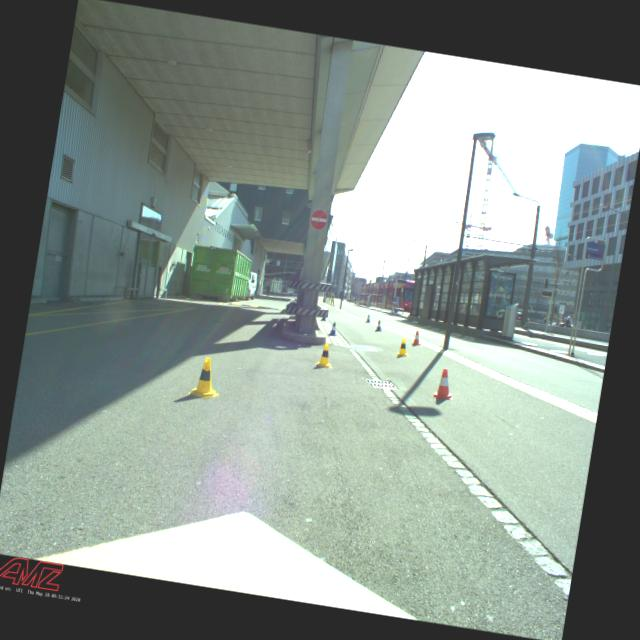blue_cone: (328, 322, 338, 336), (376, 320, 384, 332), (321, 312, 328, 322), (366, 314, 372, 323)
orange_cone: (432, 368, 457, 402), (412, 330, 423, 346)
yellow_cone: (188, 356, 225, 401), (315, 342, 336, 369), (396, 337, 412, 357)
